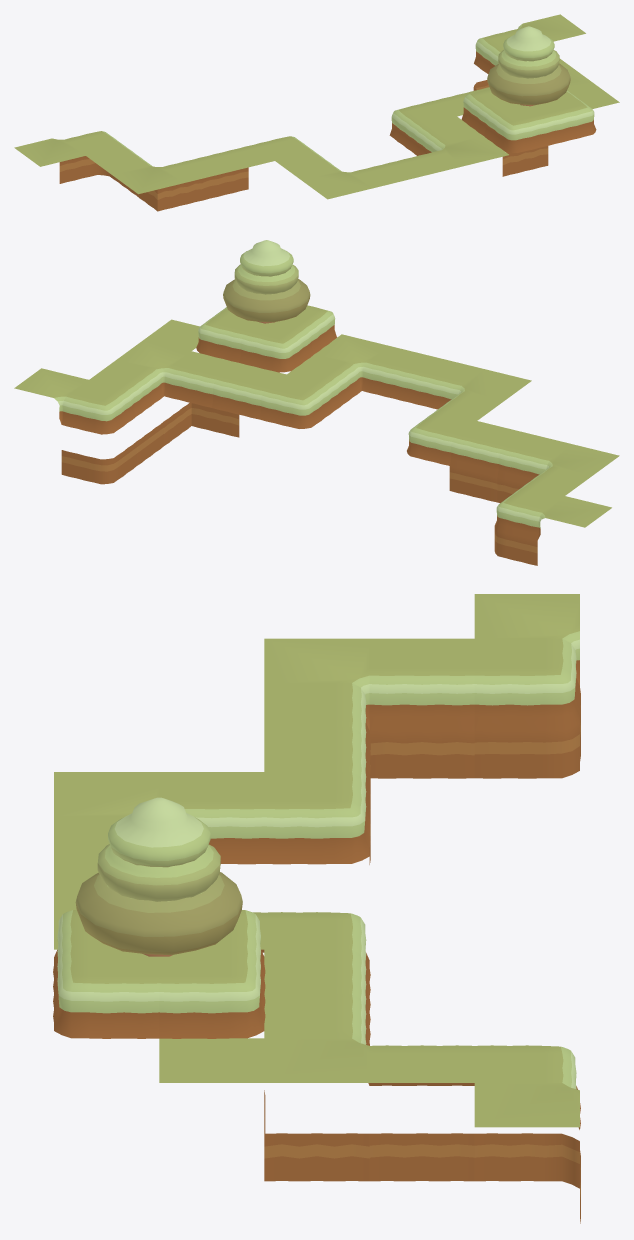
The model's file is NoonGrassBlocks.glb.
3 renders of one model, top to bottom at view 1: azimuth 30°, elevation 25°; view 2: azimuth 150°, elevation 25°; view 3: azimuth 270°, elevation 25°, orthographic. The views are drawn at different scales.
Visible parts, largest first — view 1: U-Shaped Grass, Grass Island, Tree, Long Inner Edge Grass Block, Long Edge Grass Block, Long Outer Edge Grass Block, Long Isolated Grass Block, Under Inner Edge Grass Block, Outer Edge Grass Block, Isolated Grass Block, Flat Grass Block, Edge Grass Block (+1 smaller); view 2: U-Shaped Grass, Grass Island, Inner Edge Grass Block, Long Inner Edge Grass Block, Tree, Long Edge Grass Block, Long Outer Edge Grass Block, Outer Edge Grass Block, Edge Grass Block, Under Outer Edge Grass Block, Under Inner Edge Grass Block, Isolated Grass Block (+3 smaller); view 3: U-Shaped Grass, Long Inner Edge Grass Block, Grass Island, Tree, Long Outer Edge Grass Block, Inner Edge Grass Block, Under Inner Edge Grass Block, Under Outer Edge Grass Block, Under Edge Grass Block, Long Isolated Grass Block, Long Edge Grass Block, Edge Grass Block (+3 smaller).
Boxes of the visible parts, left/top/right/bottom form: U-Shaped Grass: left=253, top=100, right=508, bottom=199; Grass Island: left=461, top=89, right=596, bottom=152; Tree: left=487, top=26, right=570, bottom=106; Long Inner Edge Grass Block: left=86, top=146, right=228, bottom=211; Long Edge Grass Block: left=203, top=145, right=274, bottom=200; Long Outer Edge Grass Block: left=59, top=131, right=131, bottom=191; Long Isolated Grass Block: left=14, top=138, right=85, bottom=166; Under Inner Edge Grass Block: left=502, top=146, right=548, bottom=176; Outer Edge Grass Block: left=474, top=29, right=519, bottom=73; Isolated Grass Block: left=518, top=14, right=585, bottom=41; Flat Grass Block: left=567, top=83, right=619, bottom=108; Edge Grass Block: left=435, top=89, right=481, bottom=116; U-Shaped Grass: left=259, top=334, right=531, bottom=465; Grass Island: left=196, top=305, right=336, bottom=372; Inner Edge Grass Block: left=89, top=339, right=238, bottom=415; Long Inner Edge Grass Block: left=497, top=432, right=619, bottom=502; Tree: left=223, top=240, right=310, bottom=323; Long Edge Grass Block: left=449, top=421, right=524, bottom=502; Long Outer Edge Grass Block: left=494, top=486, right=564, bottom=565; Outer Edge Grass Block: left=61, top=380, right=136, bottom=434; Edge Grass Block: left=211, top=363, right=286, bottom=419; Under Outer Edge Grass Block: left=61, top=441, right=136, bottom=484; Under Inner Edge Grass Block: left=164, top=403, right=239, bottom=445; Isolated Grass Block: left=14, top=368, right=88, bottom=424; U-Shaped Grass: left=54, top=772, right=370, bottom=996; Long Inner Edge Grass Block: left=264, top=638, right=474, bottom=781; Grass Island: left=53, top=910, right=265, bottom=1038; Tree: left=75, top=797, right=242, bottom=956; Long Outer Edge Grass Block: left=474, top=638, right=580, bottom=778; Inner Edge Grass Block: left=264, top=994, right=474, bottom=1085; Under Inner Edge Grass Block: left=264, top=1090, right=369, bottom=1181; Under Outer Edge Grass Block: left=474, top=1133, right=580, bottom=1223; Under Edge Grass Block: left=369, top=1133, right=474, bottom=1181; Long Isolated Grass Block: left=474, top=594, right=579, bottom=685; Long Edge Grass Block: left=264, top=727, right=370, bottom=864; Edge Grass Block: left=264, top=949, right=370, bottom=1041.
Size of the model in its own units: 24 by 7.08 by 10.04.
2 materials, 2 textured.
